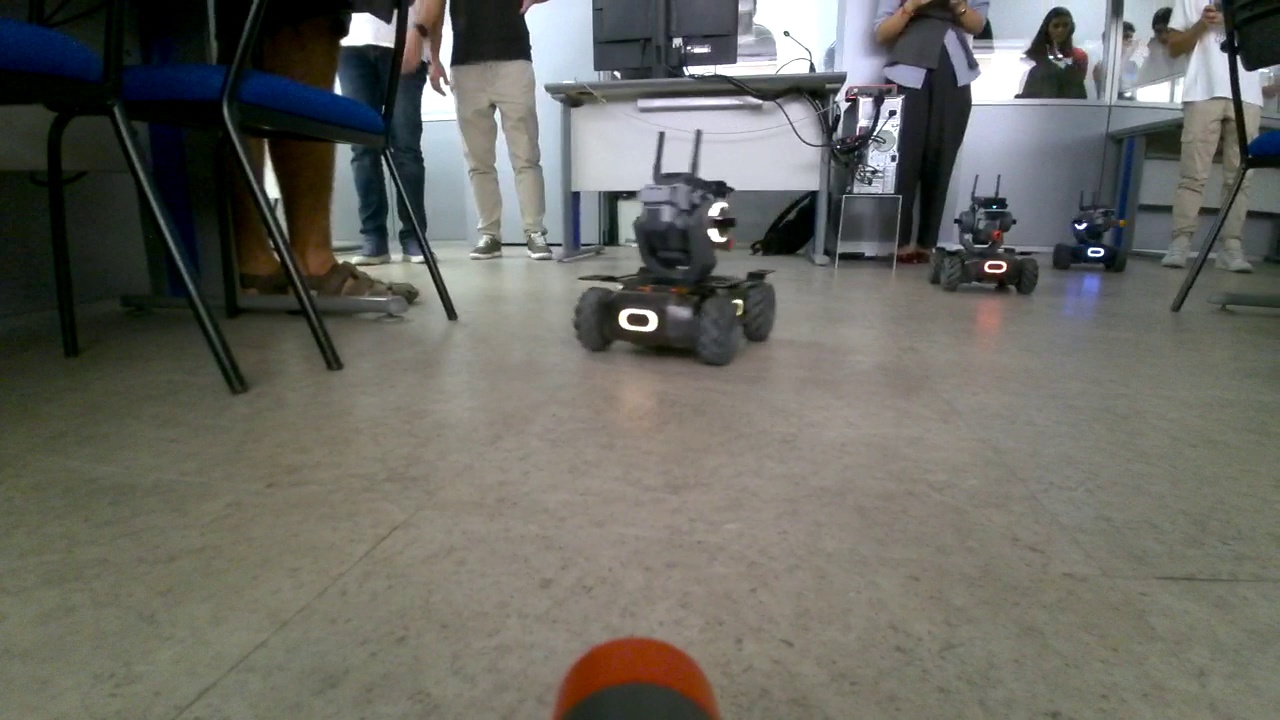robot: (573, 131, 779, 363), (926, 173, 1039, 293), (1057, 192, 1127, 271)
